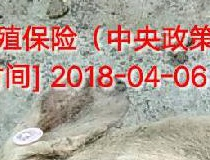text: (4, 118, 50, 153)
